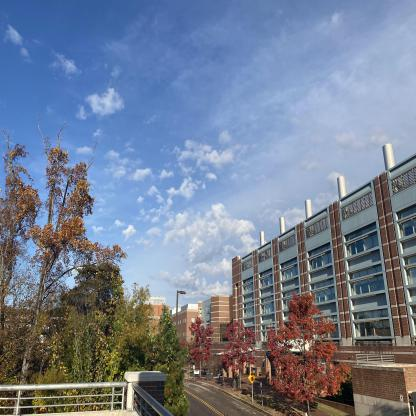EB-1: (231, 151, 415, 391)
